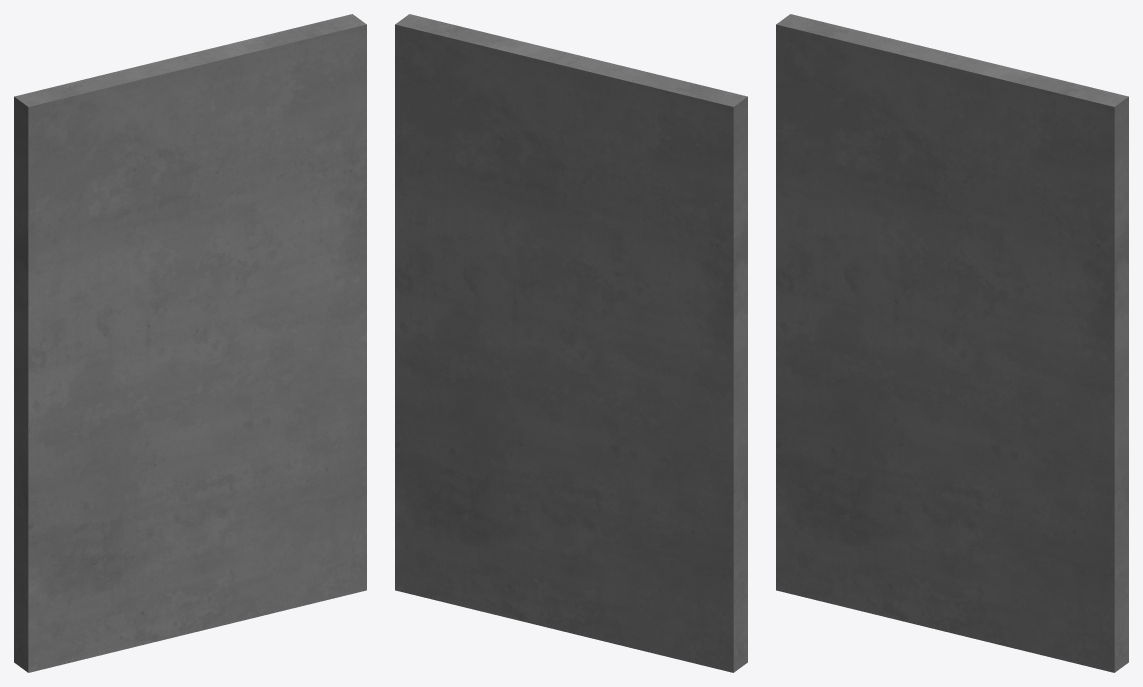
The model's file is Patitionmdl_S.fbx.
3 renders of one model, left to right at view 1: azimuth 30°, elevation 25°; view 2: azimuth 150°, elevation 25°; view 3: azimuth 330°, elevation 25°, orthographic.
Parts seen in each view (by area): view 1: Partition_S; view 2: Partition_S; view 3: Partition_S.
Part boxes in pixels (<box>): Partition_S: <box>14,14,366,672</box>; Partition_S: <box>395,14,747,672</box>; Partition_S: <box>776,14,1128,672</box>.
Bounding box in the file's own units: 391 × 624 × 28.66.
